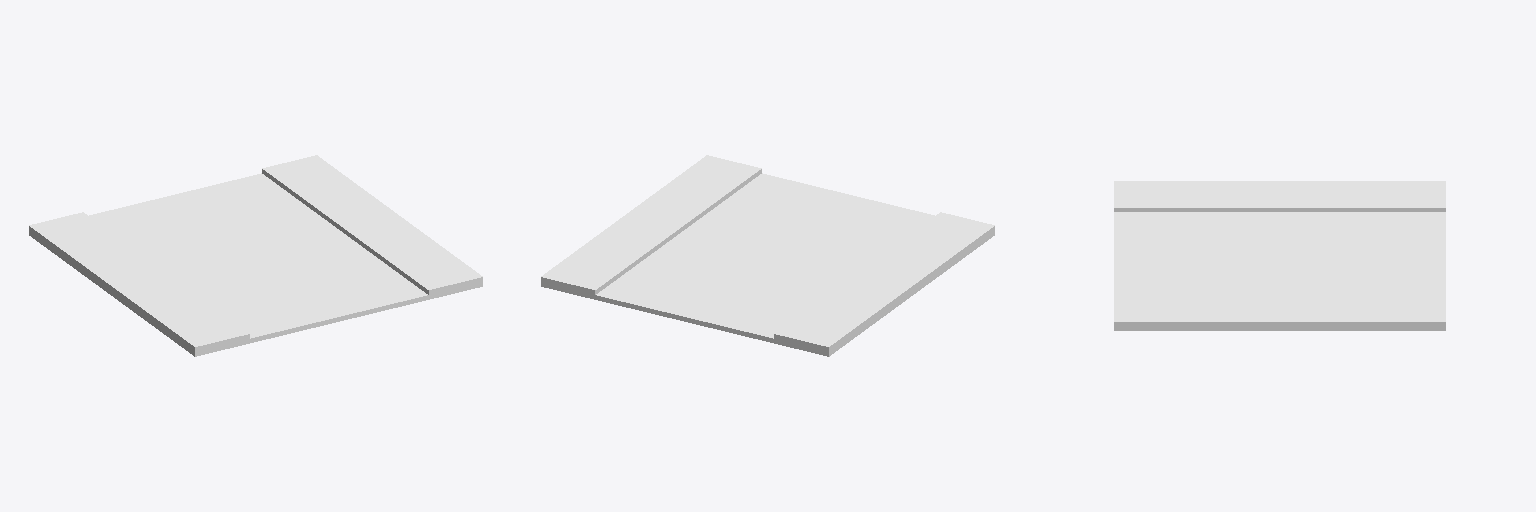
The model's file is roads-7.obj.
3 views of the same model, side by side, from view 1: azimuth 30°, elevation 25°; view 2: azimuth 150°, elevation 25°; view 3: azimuth 270°, elevation 25° (orthographic).
Visible parts, largest first — view 1: object 1; view 2: object 1; view 3: object 1.
Part boxes in pixels (left/top/right/bottom): object 1: left=29, top=155, right=482, bottom=356; object 1: left=541, top=155, right=994, bottom=356; object 1: left=1114, top=181, right=1445, bottom=330.
Size of the model in its own units: 12.6 by 0.4 by 12.6.